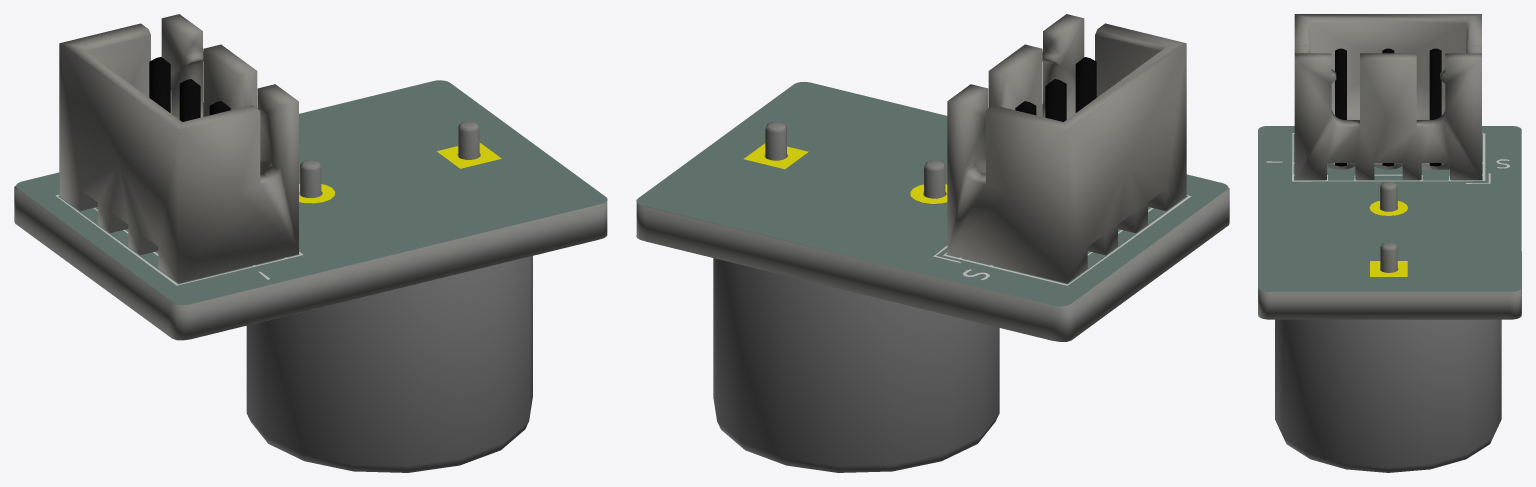
Rendered from buzzer.glb.
3 views of the same model, side by side, from view 1: azimuth 30°, elevation 25°; view 2: azimuth 150°, elevation 25°; view 3: azimuth 270°, elevation 25° (orthographic). The views are drawn at different scales.
Parts seen in each view (by area): view 1: Plane.006, malePin; view 2: Plane.006, malePin; view 3: Plane.006, malePin.
Boxes of the visible parts, x1,y1,x2,y2 form: Plane.006: (14, 80, 607, 472); malePin: (59, 14, 298, 283); Plane.006: (636, 82, 1229, 472); malePin: (947, 14, 1186, 283); Plane.006: (1258, 126, 1521, 472); malePin: (1294, 14, 1481, 179).
Bounding box in the file's own units: 0.0208 × 0.0182 × 0.0139.
Materials: 7 (7 with a texture image).
